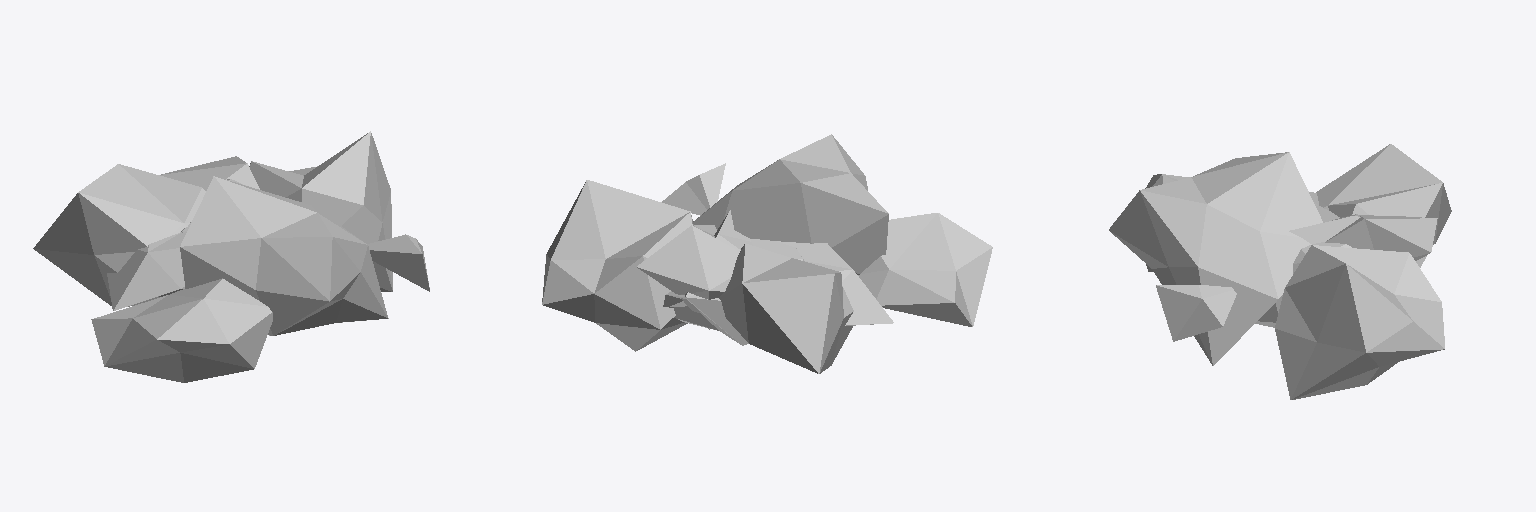
Rendered from Debris3.obj.
3 renders of one model, left to right at view 1: azimuth 30°, elevation 25°; view 2: azimuth 150°, elevation 25°; view 3: azimuth 270°, elevation 25°, orthographic.
Parts seen in each view (by area): view 1: Null; view 2: Null; view 3: Null.
Boxes of the visible parts, box(x1,y1,x2,y2) form: Null: box(33, 131, 429, 382); Null: box(542, 134, 992, 373); Null: box(1109, 144, 1451, 399).
Size of the model in its own units: 498 by 229 by 415.